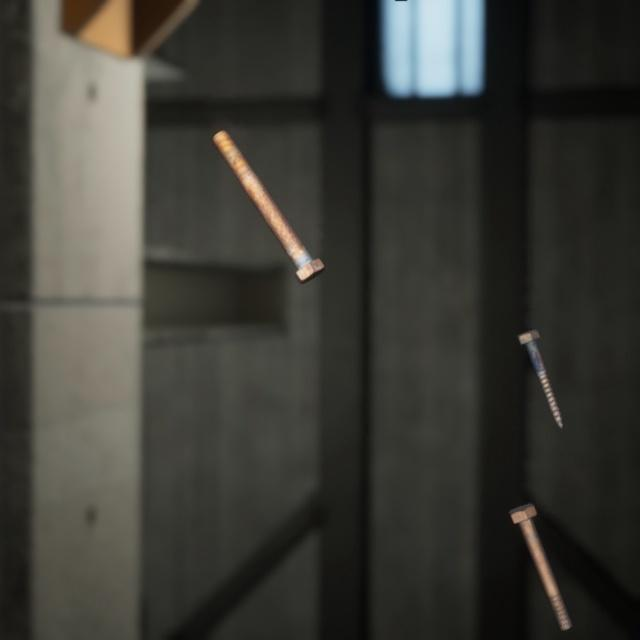bolt: (208, 110, 329, 273), (503, 476, 577, 612), (511, 305, 567, 414)
